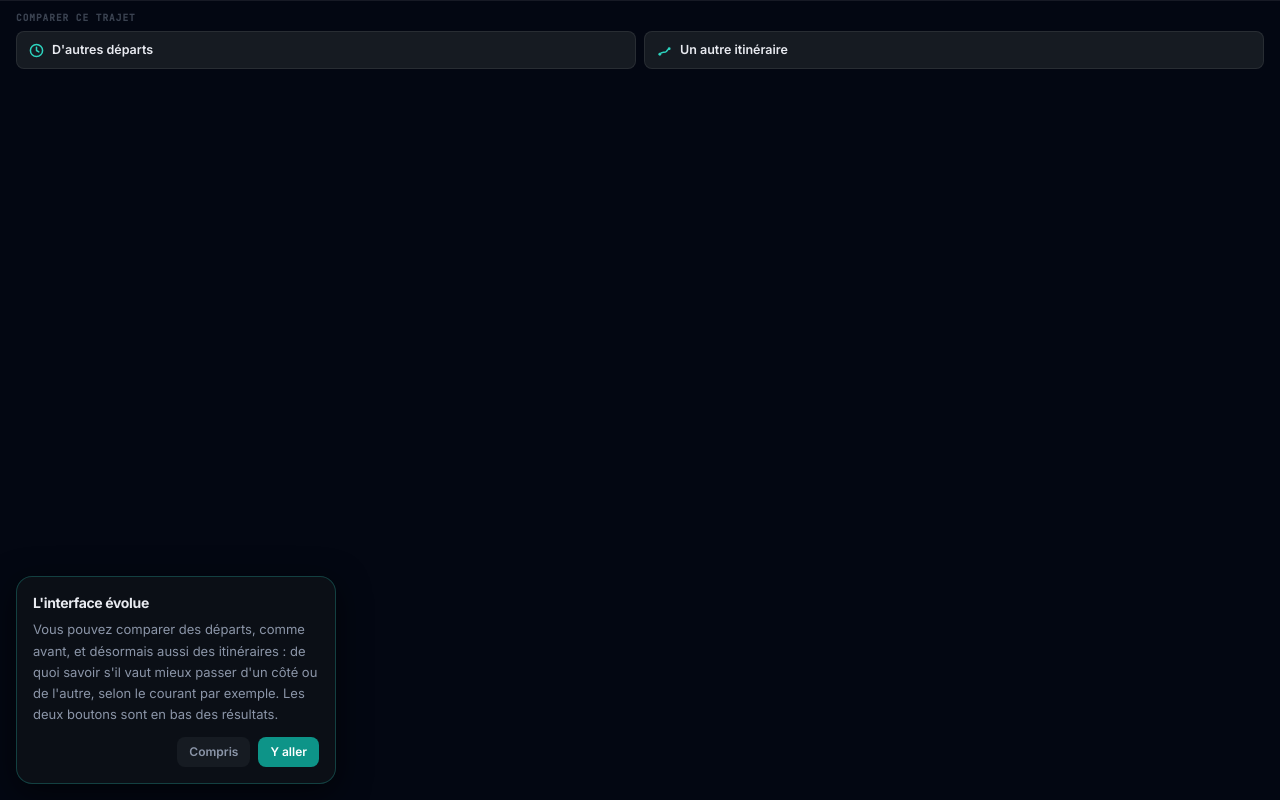
Test case: CompareHint › shows once, a moment after the first plan, and stays gone once dismissed
Check: the dialog is shown, box [16,576,336,784]
What coordinates should you click on to do the following:
click the button "Compris"
I would click on:
 (214, 752)
Its box is [177,737,250,767].
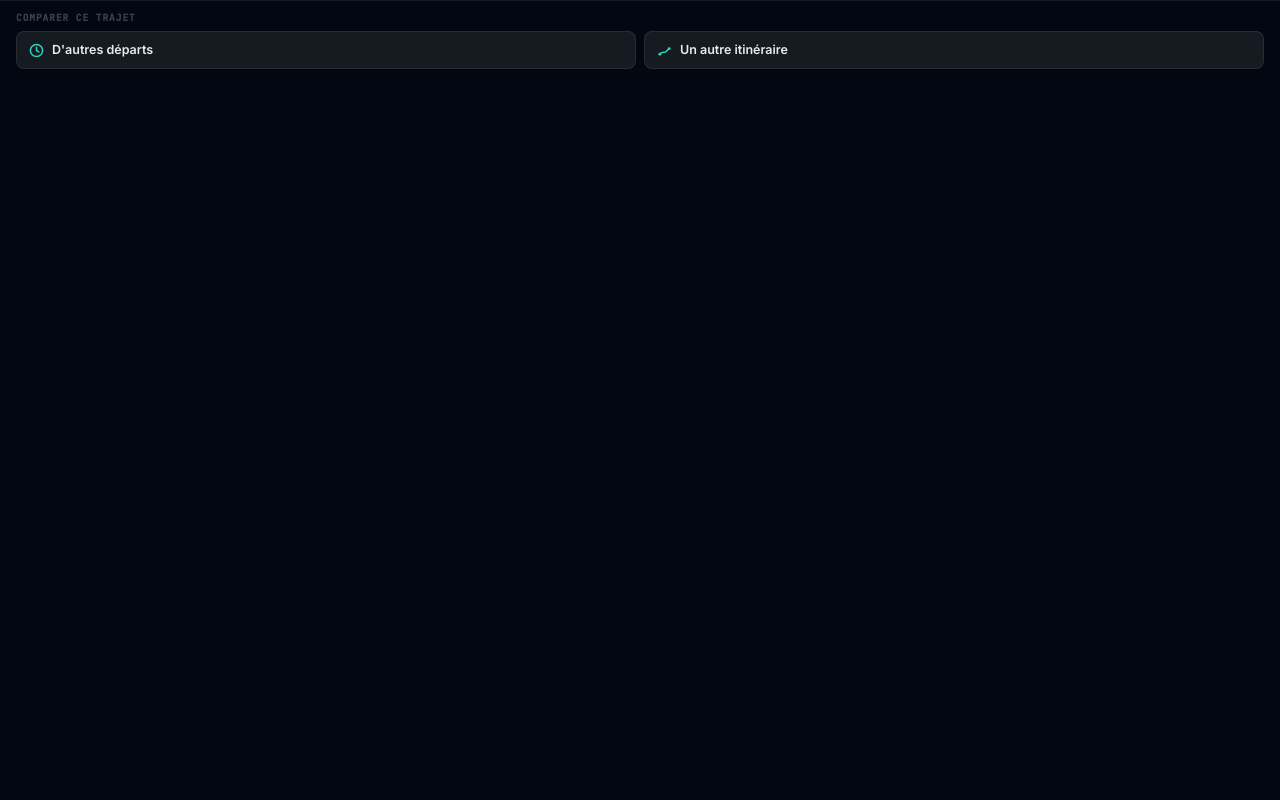
Check: the dialog is gone
